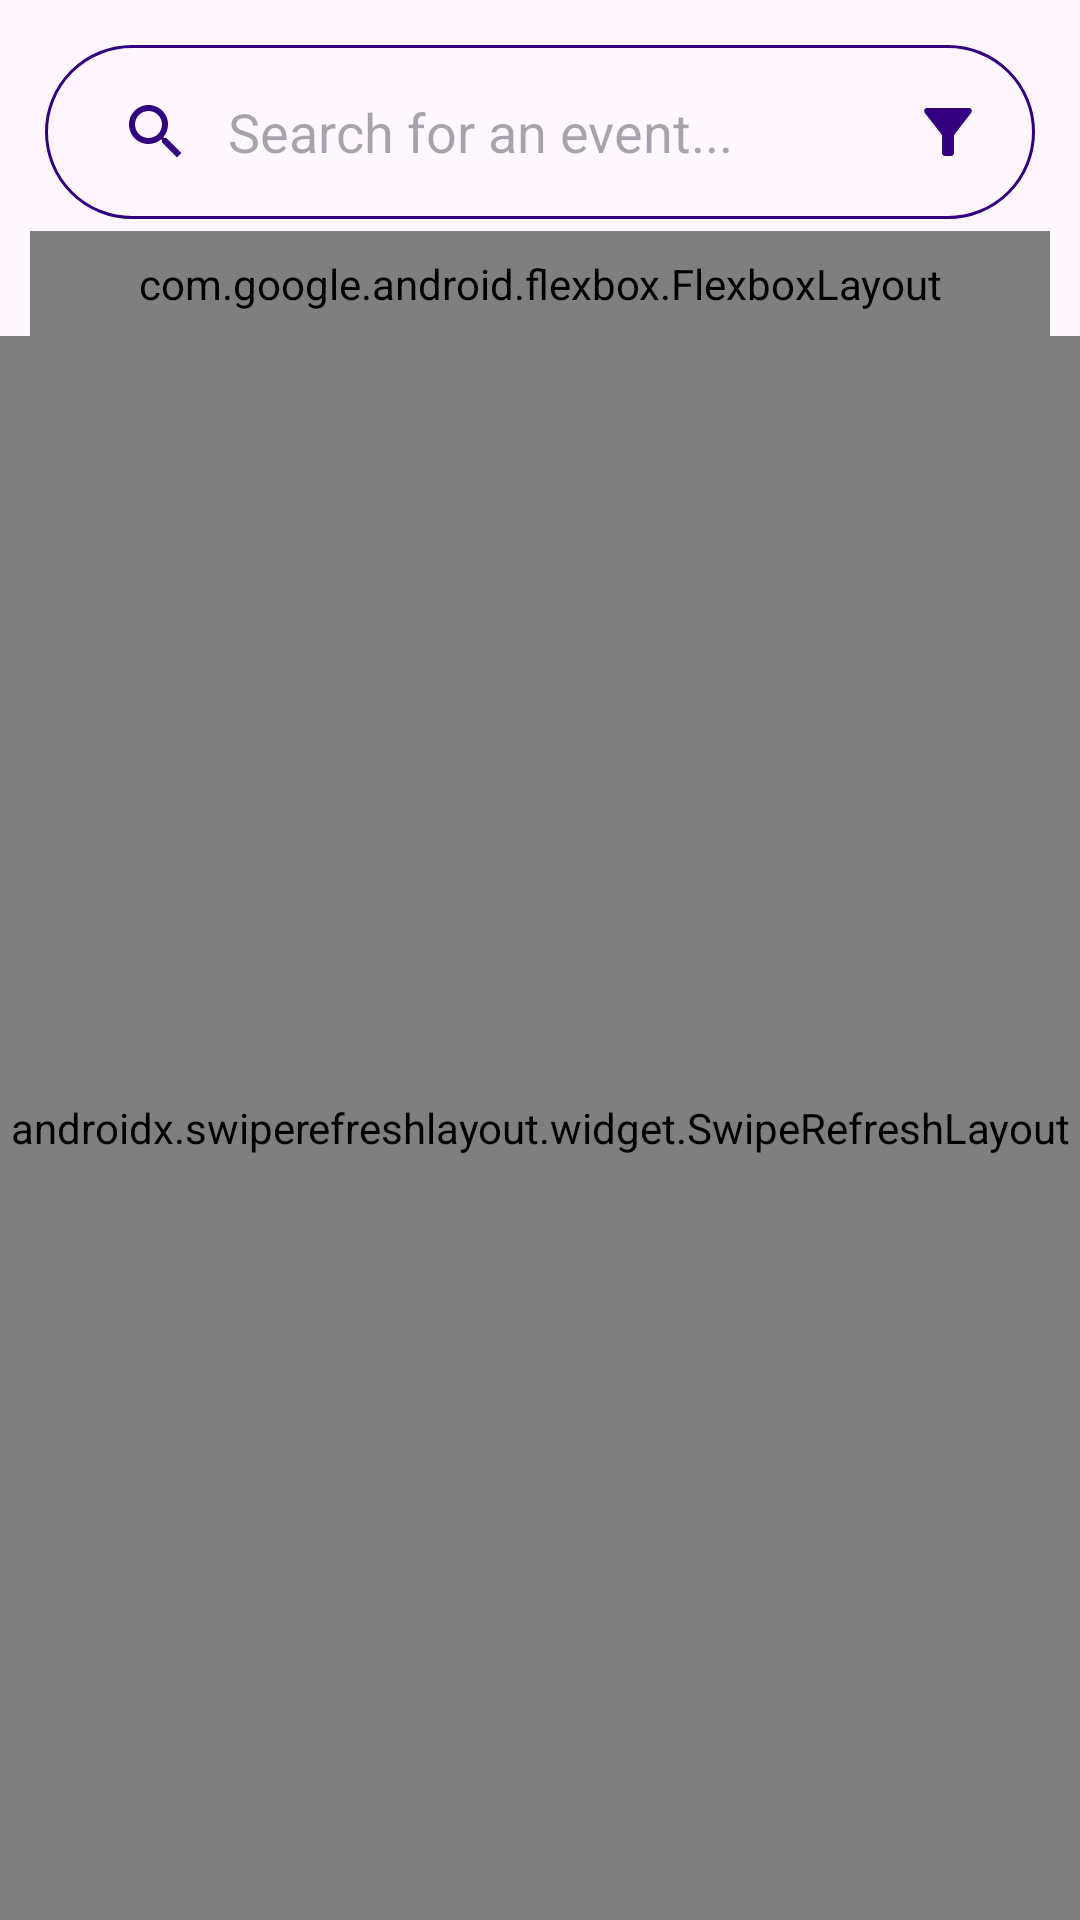

Point at icon controls on the screen. Image size 1080 × 1920, points as point (x, y).
Filter events: point (948, 132)
